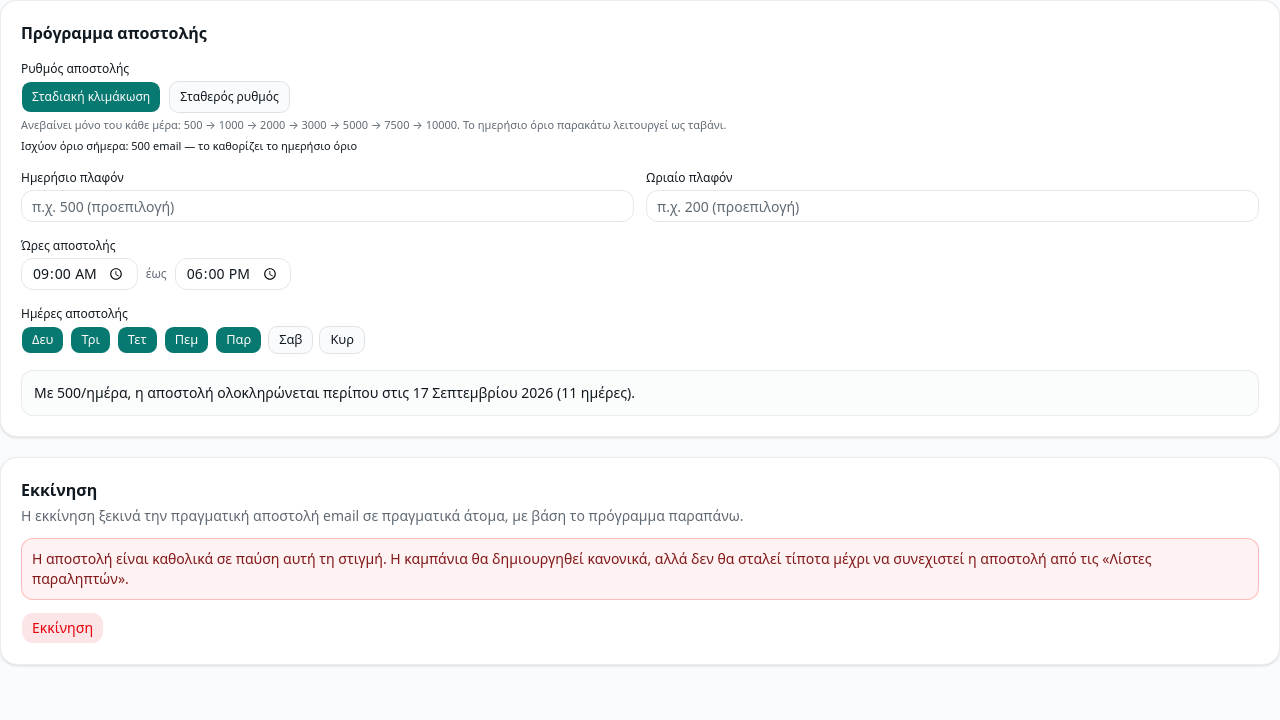
Test: StepSchedule › appends the pause caveat to the launch confirmation text when sending is globally paused
What coordinates should you click on to do the following:
click the button "Εκκίνηση"
I would click on:
 (62, 628)
Its box is [21, 612, 104, 644].
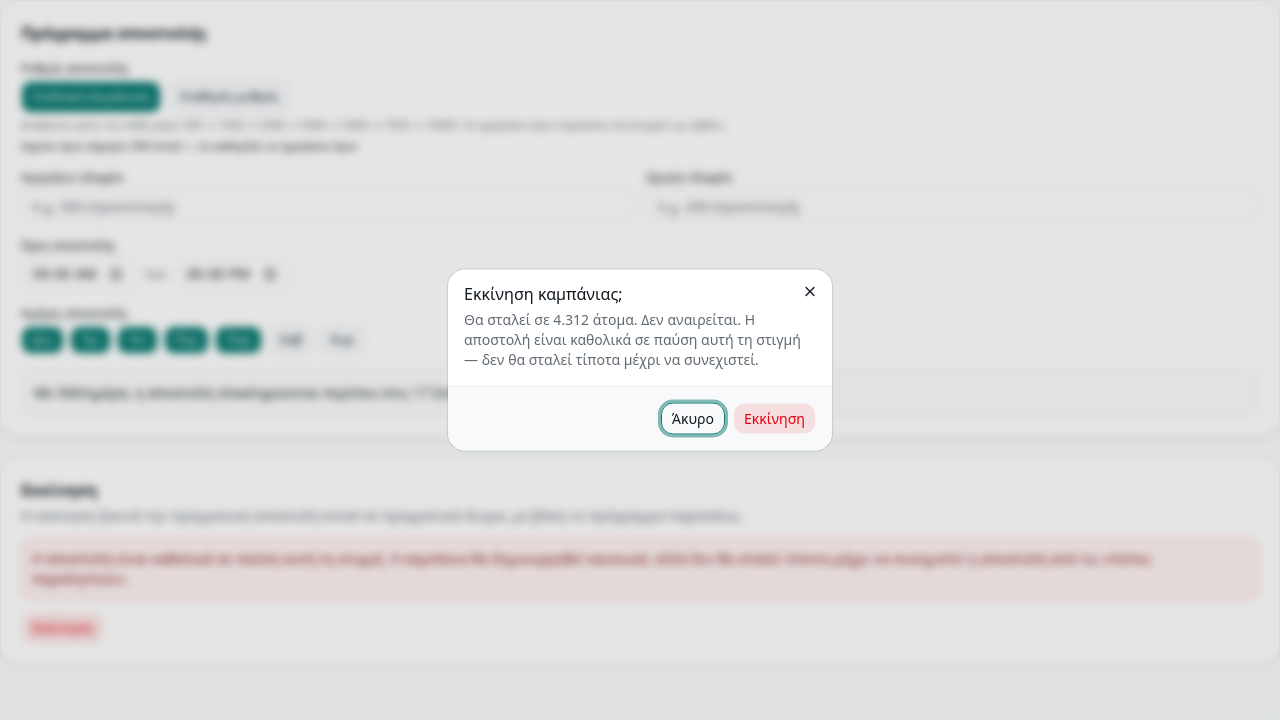
Check: the text "Θα σταλεί σε 4.312 άτομα. Δεν αναιρείται. Η αποστολή είναι καθολικά σε παύση αυτή τη στιγμή — δεν θα σταλεί τίποτα μέχρι" is shown, box [464, 310, 801, 368]
